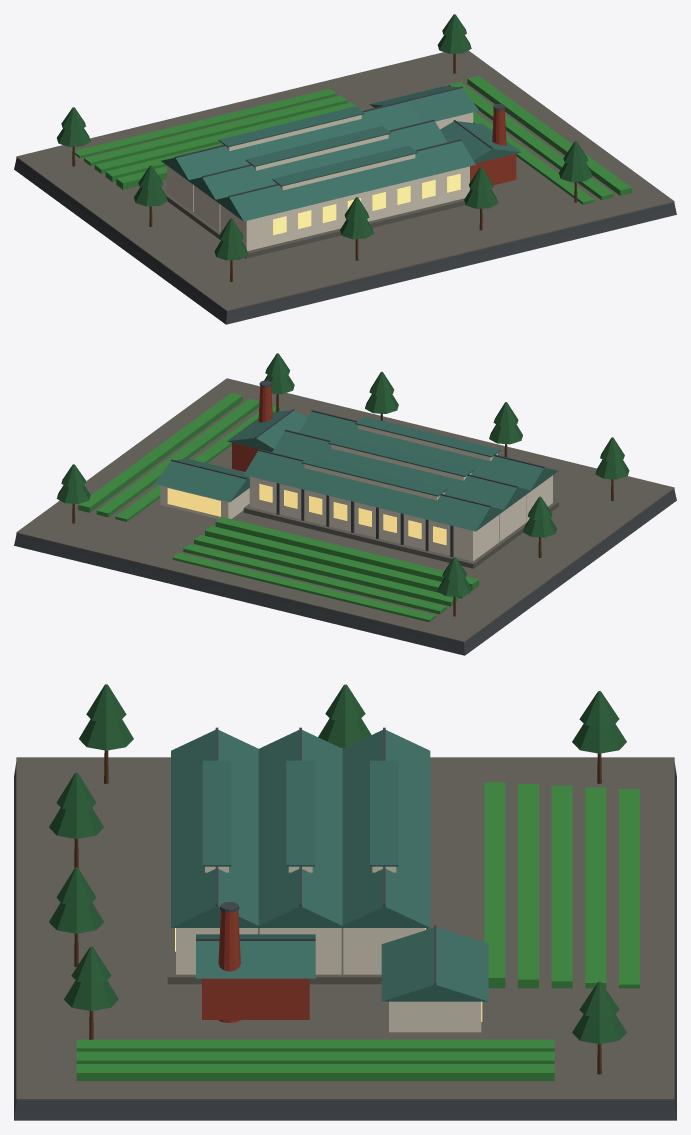
File: lm_36_nha_may_che_cau_dat_1927.glb
3 views of the same model, one above another, from view 1: azimuth 30°, elevation 25°; view 2: azimuth 150°, elevation 25°; view 3: azimuth 270°, elevation 25° (orthographic). The views are drawn at different scales.
Parts seen in each view (by area): view 1: Foundation_Plinth_Trim, CauDat_Terraced_Tea_Rows, Factory_1927_Cream_Walls, Foundation_Skirt, CauDat_Pine_Canopies, CauDat_1927_Factory_Hall_Roof_3, Factory_Patina_Teal_Roofs, CauDat_1927_Factory_Hall_Roof_1, CauDat_1927_Factory_Hall_Roof_2, CauDat_Tea_Museum_Cafe_Roof, Factory_Stone_Plinths, Factory_Glowing_Industrial_Windows (+3 smaller); view 2: Foundation_Plinth_Trim, CauDat_Terraced_Tea_Rows, Factory_1927_Cream_Walls, Foundation_Skirt, CauDat_Pine_Canopies, CauDat_1927_Factory_Hall_Roof_1, Factory_Patina_Teal_Roofs, CauDat_1927_Factory_Hall_Roof_2, CauDat_1927_Factory_Hall_Roof_3, Factory_Glowing_Industrial_Windows, CauDat_Tea_Museum_Cafe_Roof, Factory_Stone_Plinths (+3 smaller); view 3: Foundation_Plinth_Trim, CauDat_Terraced_Tea_Rows, Foundation_Skirt, CauDat_Pine_Canopies, CauDat_1927_Factory_Hall_Roof_1, CauDat_1927_Factory_Hall_Roof_3, CauDat_1927_Factory_Hall_Roof_2, Factory_Patina_Teal_Roofs, Factory_1927_Cream_Walls, CauDat_Tea_Museum_Cafe_Roof, Factory_Kiln_Red_Brick_Chimney, CauDat_Kiln_House_Roof (+2 smaller).
Part boxes in pixels (x1,y1,x2,y2): Foundation_Plinth_Trim: (16, 50, 674, 311); CauDat_Terraced_Tea_Rows: (75, 76, 631, 204); Factory_1927_Cream_Walls: (166, 112, 473, 251); Foundation_Skirt: (14, 158, 676, 324); CauDat_Pine_Canopies: (57, 14, 592, 260); CauDat_1927_Factory_Hall_Roof_3: (215, 140, 475, 221); Factory_Patina_Teal_Roofs: (218, 106, 417, 186); CauDat_1927_Factory_Hall_Roof_1: (161, 101, 420, 181); CauDat_1927_Factory_Hall_Roof_2: (189, 121, 446, 201); CauDat_Tea_Museum_Cafe_Roof: (370, 86, 478, 122); Factory_Stone_Plinths: (164, 190, 465, 258); Factory_Glowing_Industrial_Windows: (273, 174, 460, 234); Foundation_Plinth_Trim: (16, 378, 674, 642); CauDat_Terraced_Tea_Rows: (78, 393, 478, 622); Factory_1927_Cream_Walls: (160, 425, 552, 561); Foundation_Skirt: (14, 489, 676, 655); CauDat_Pine_Canopies: (56, 353, 629, 596); CauDat_1927_Factory_Hall_Roof_1: (244, 450, 504, 531); Factory_Patina_Teal_Roofs: (301, 416, 500, 496); CauDat_1927_Factory_Hall_Roof_2: (272, 431, 531, 510); CauDat_1927_Factory_Hall_Roof_3: (299, 411, 558, 490); Factory_Glowing_Industrial_Windows: (167, 484, 446, 545); CauDat_Tea_Museum_Cafe_Roof: (154, 459, 249, 502); Factory_Stone_Plinths: (243, 500, 558, 568); Foundation_Plinth_Trim: (16, 757, 674, 1100); CauDat_Terraced_Tea_Rows: (76, 782, 639, 1080); Foundation_Skirt: (14, 762, 676, 1120); CauDat_Pine_Canopies: (49, 684, 626, 1044); CauDat_1927_Factory_Hall_Roof_1: (339, 730, 430, 927); CauDat_1927_Factory_Hall_Roof_3: (171, 730, 260, 927); CauDat_1927_Factory_Hall_Roof_2: (255, 730, 345, 927); Factory_Patina_Teal_Roofs: (202, 760, 398, 866); Factory_1927_Cream_Walls: (176, 866, 481, 1032); CauDat_Tea_Museum_Cafe_Roof: (381, 927, 488, 1001); Factory_Kiln_Red_Brick_Chimney: (202, 910, 309, 1022); CauDat_Kiln_House_Roof: (196, 934, 315, 978).
Bounding box in the file's own units: 109 × 19.5 × 88.73.
